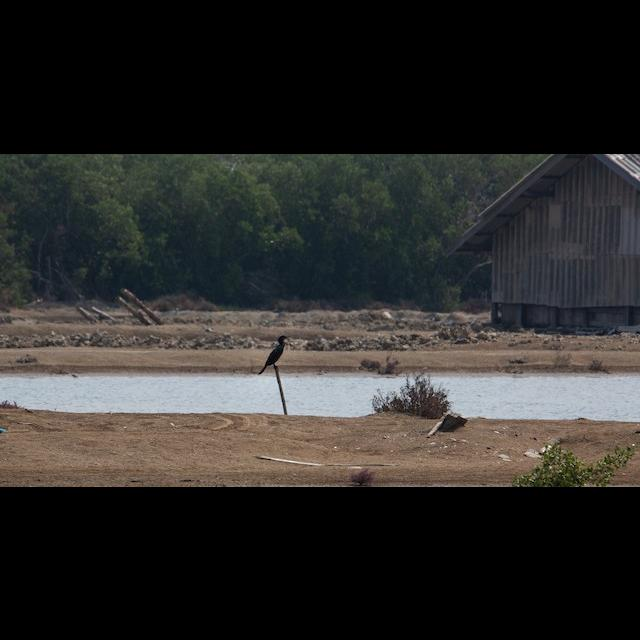cormorant: (256, 334, 300, 376)
